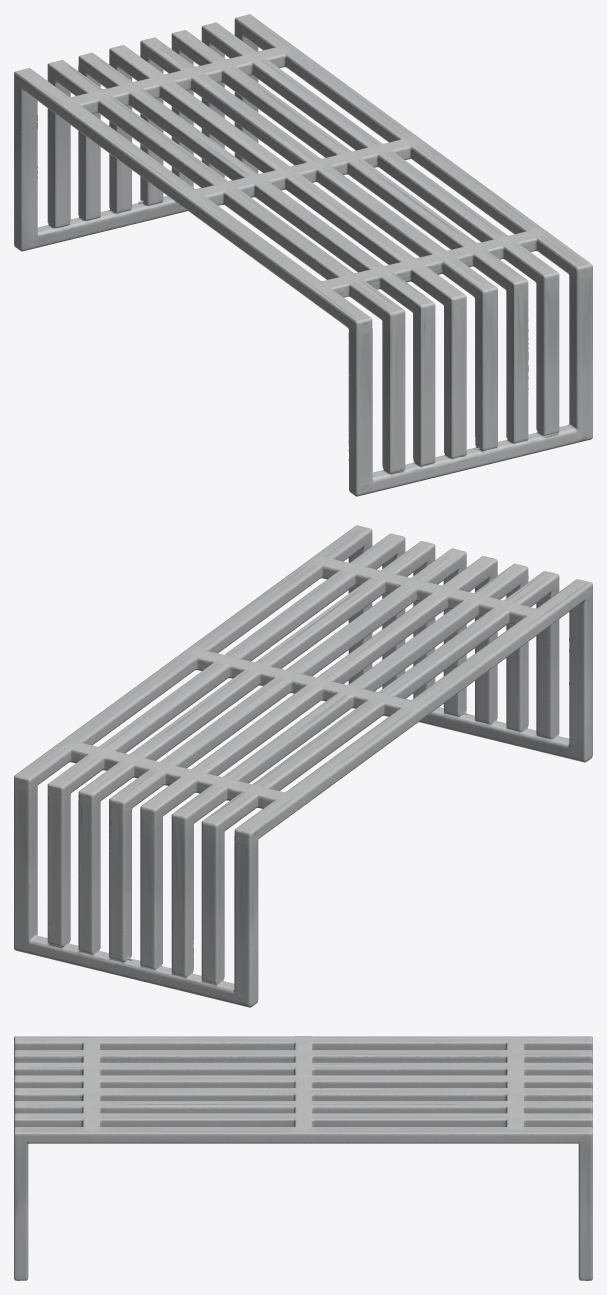
The model's file is slatted metal bench 3d model.glb.
The picture shows the model from 3 angles, top to bottom: view 1: azimuth 30°, elevation 25°; view 2: azimuth 150°, elevation 25°; view 3: azimuth 270°, elevation 25°; orthographic projection. The views are drawn at different scales.
Visible parts, largest first — view 1: tripo_node_13d50495-1474-4a81-8234-c8cd4a02f028; view 2: tripo_node_13d50495-1474-4a81-8234-c8cd4a02f028; view 3: tripo_node_13d50495-1474-4a81-8234-c8cd4a02f028.
Part boxes in pixels (x1,y1,x2,y2): tripo_node_13d50495-1474-4a81-8234-c8cd4a02f028: [14, 14, 592, 496]; tripo_node_13d50495-1474-4a81-8234-c8cd4a02f028: [14, 525, 592, 1007]; tripo_node_13d50495-1474-4a81-8234-c8cd4a02f028: [14, 1036, 592, 1280].
Bounding box in the file's own units: 0.3994 × 0.2828 × 1.
1 material, 1 textured.
